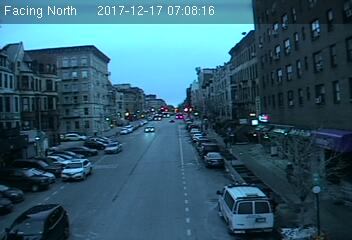car: (59, 158, 94, 181), (204, 150, 225, 169), (102, 142, 123, 154), (143, 125, 155, 134)
police: (215, 181, 277, 236)
